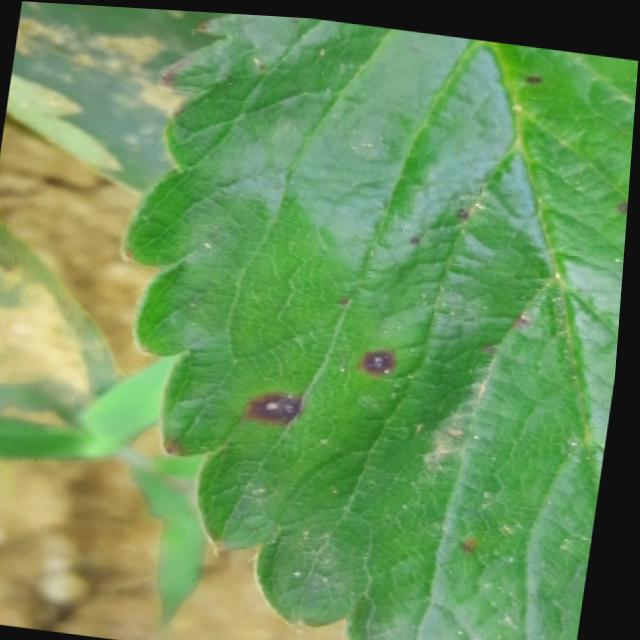Leaf Spot: (121, 10, 639, 640), (7, 1, 223, 194)
